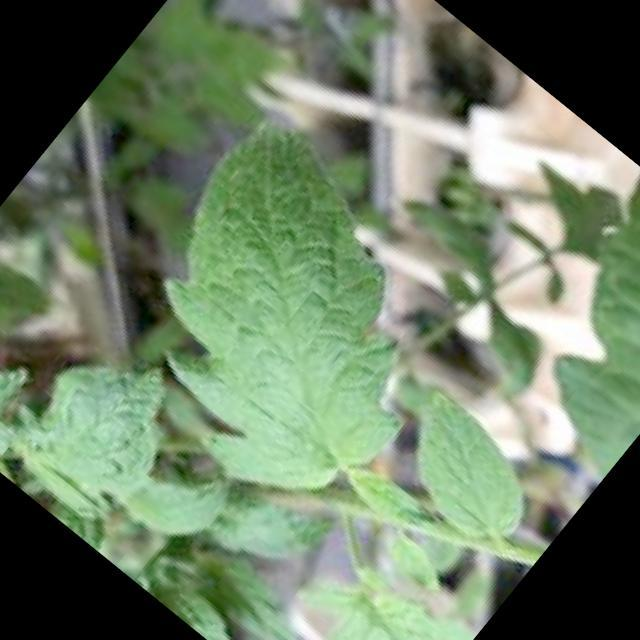Tomato healthy leaf: (164, 117, 401, 491), (404, 384, 547, 566), (0, 363, 161, 515), (553, 200, 640, 474)
